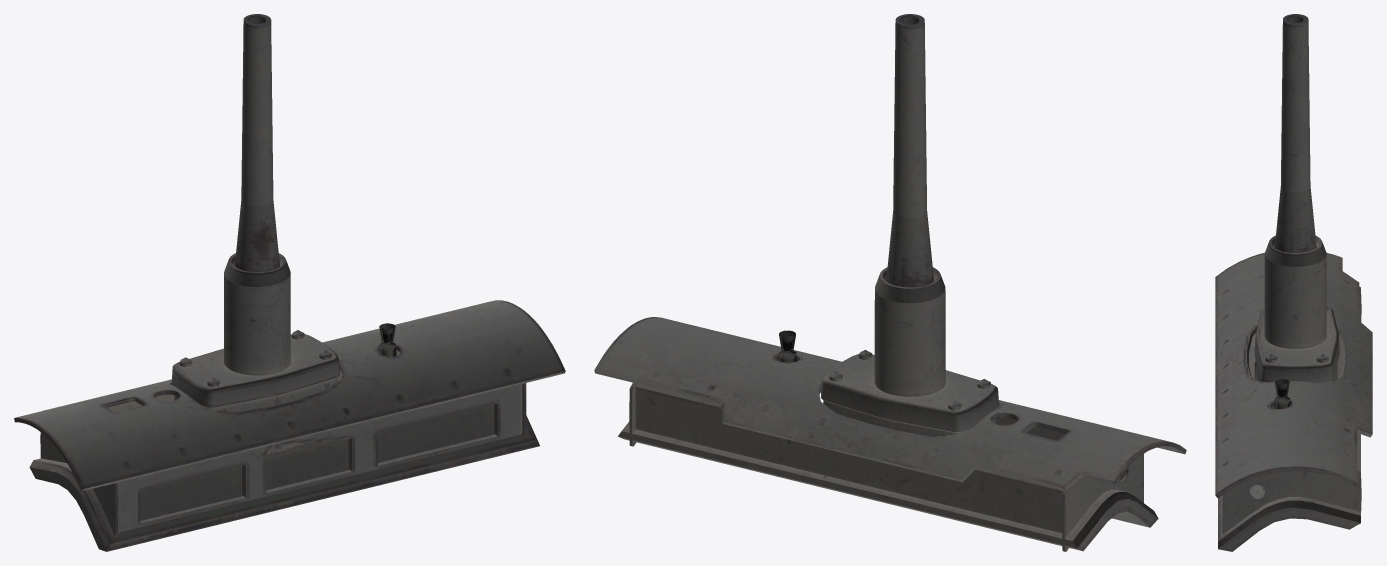
The model's file is Gun_05.glb.
3 renders of one model, left to right at view 1: azimuth 30°, elevation 25°; view 2: azimuth 150°, elevation 25°; view 3: azimuth 270°, elevation 25°, orthographic. The views are drawn at different scales.
Parts seen in each view (by area): view 1: set_0_group_0; view 2: set_0_group_0; view 3: set_0_group_0.
Boxes of the visible parts, box(x1,y1,x2,y2) form: set_0_group_0: box(14, 14, 565, 551); set_0_group_0: box(594, 14, 1186, 551); set_0_group_0: box(1215, 14, 1372, 551).
Bounding box in the file's own units: 1.6 × 1.44 × 0.4861.
1 material, 1 textured.
